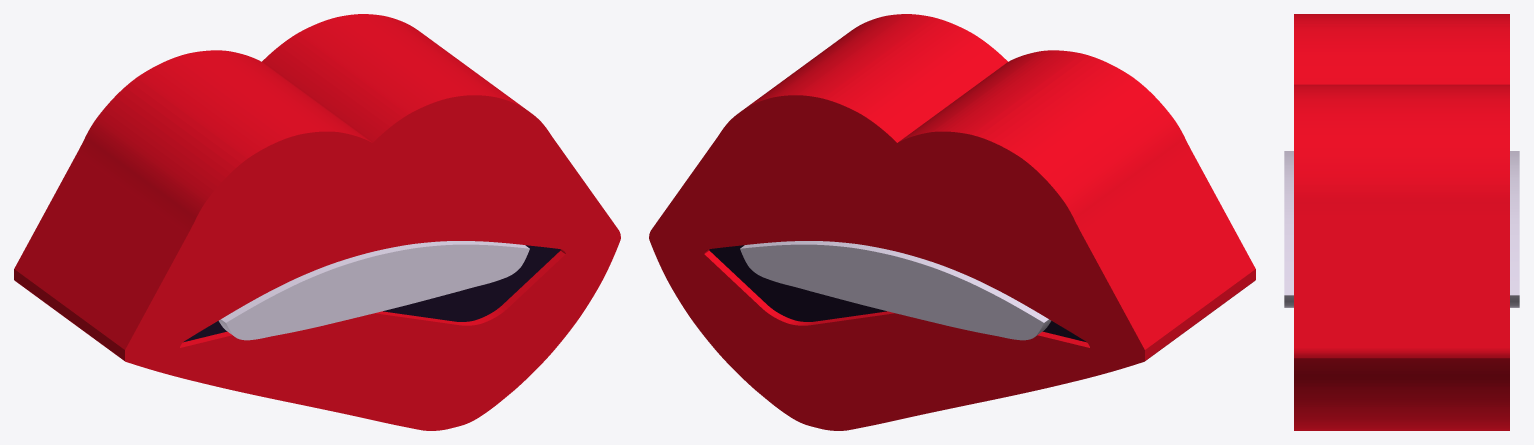
The model's file is emoji_combined.obj.
3 renders of one model, left to right at view 1: azimuth 30°, elevation 25°; view 2: azimuth 150°, elevation 25°; view 3: azimuth 270°, elevation 25°, orthographic. The views are drawn at different scales.
Visible parts, largest first — view 1: U+1FAE6_layer01_obj00, U+1FAE6_layer02_obj00, U+1FAE6_layer00_obj00; view 2: U+1FAE6_layer01_obj00, U+1FAE6_layer02_obj00, U+1FAE6_layer00_obj00; view 3: U+1FAE6_layer01_obj00, U+1FAE6_layer02_obj00.
Boxes of the visible parts, x1,y1,x2,y2 form: U+1FAE6_layer01_obj00: [14, 14, 620, 430]; U+1FAE6_layer02_obj00: [219, 241, 529, 340]; U+1FAE6_layer00_obj00: [183, 245, 560, 342]; U+1FAE6_layer01_obj00: [649, 14, 1255, 430]; U+1FAE6_layer02_obj00: [740, 241, 1050, 340]; U+1FAE6_layer00_obj00: [709, 245, 1086, 342]; U+1FAE6_layer01_obj00: [1294, 14, 1509, 430]; U+1FAE6_layer02_obj00: [1284, 151, 1519, 307].
Bounding box in the file's own units: 0.5678 × 0.362 × 0.24.
